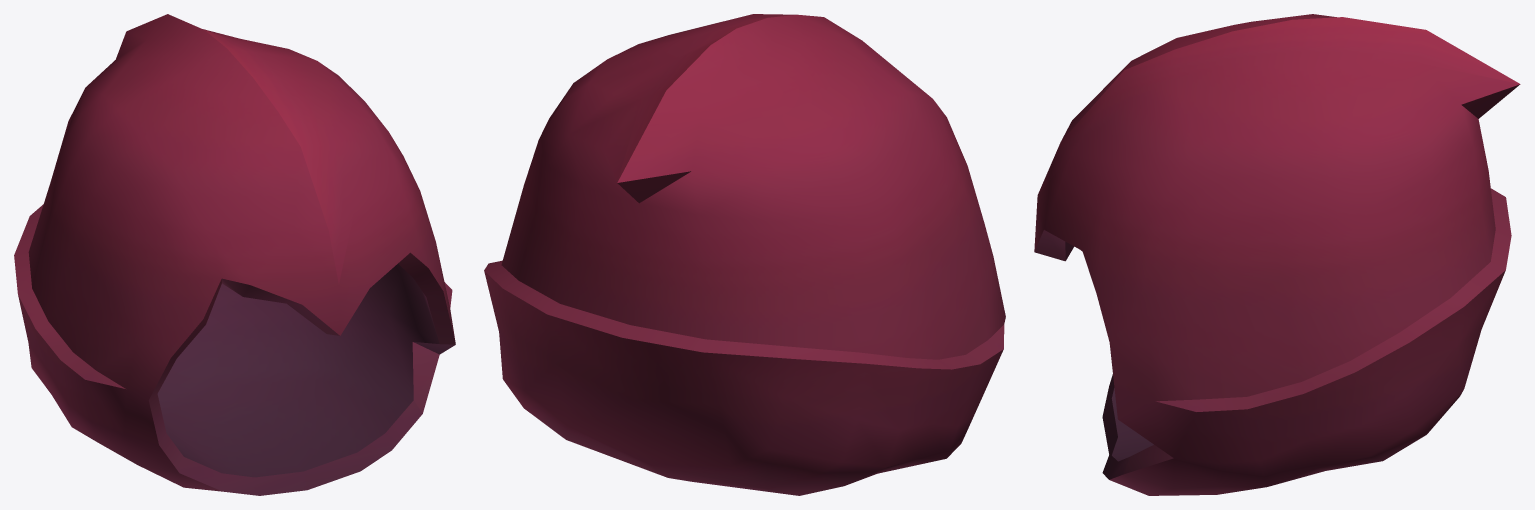
The model's file is Skeleton_Rogue_Hood.glb.
3 renders of one model, left to right at view 1: azimuth 30°, elevation 25°; view 2: azimuth 150°, elevation 25°; view 3: azimuth 270°, elevation 25°, orthographic. The views are drawn at different scales.
Visible parts, largest first — view 1: Skeleton_Rogue_Hood; view 2: Skeleton_Rogue_Hood; view 3: Skeleton_Rogue_Hood.
Part boxes in pixels (bbox=[...]): Skeleton_Rogue_Hood: bbox=[14, 14, 455, 495]; Skeleton_Rogue_Hood: bbox=[484, 14, 1005, 495]; Skeleton_Rogue_Hood: bbox=[1034, 14, 1520, 495].
Size of the model in its own units: 1.16 by 1.16 by 1.15.
1 material, 1 textured.
